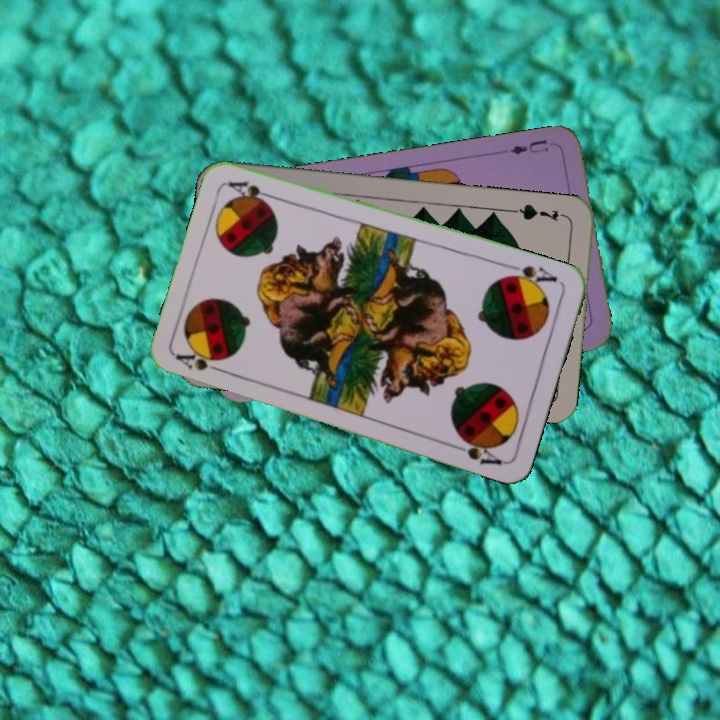EU: (506, 135, 552, 158)
G7: (510, 200, 569, 224)
SA: (502, 260, 560, 292), (172, 348, 230, 376)
